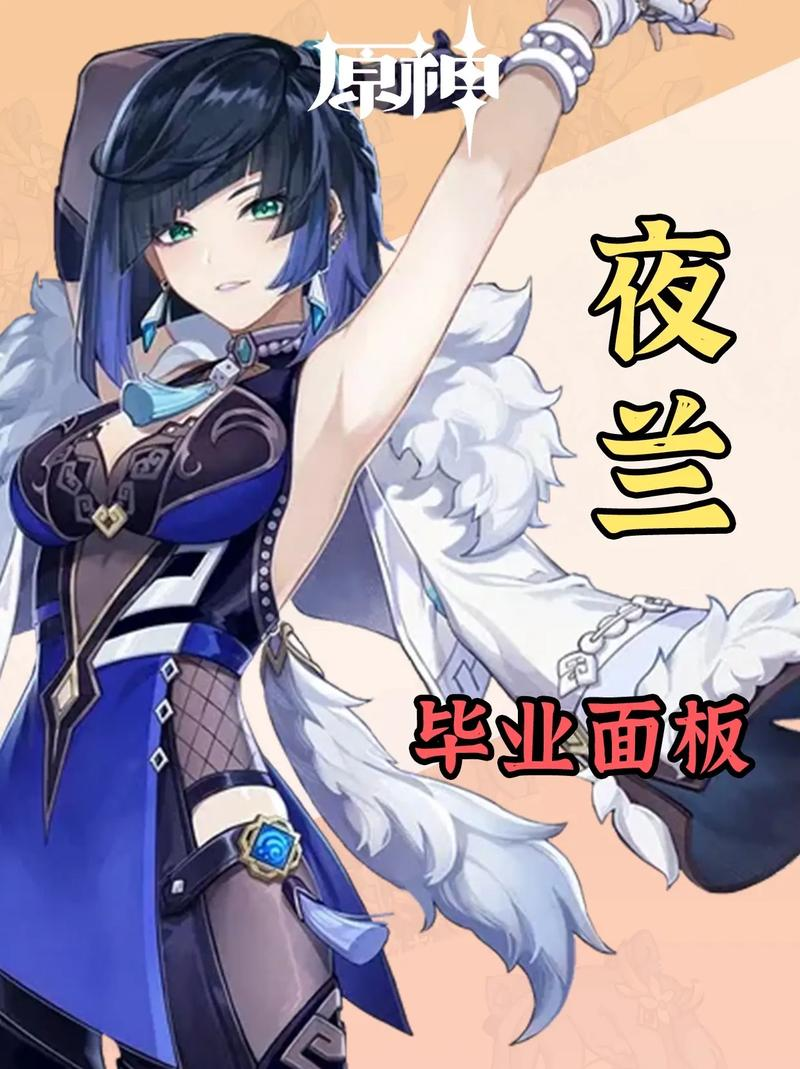夜兰: (1, 1, 745, 1069)
